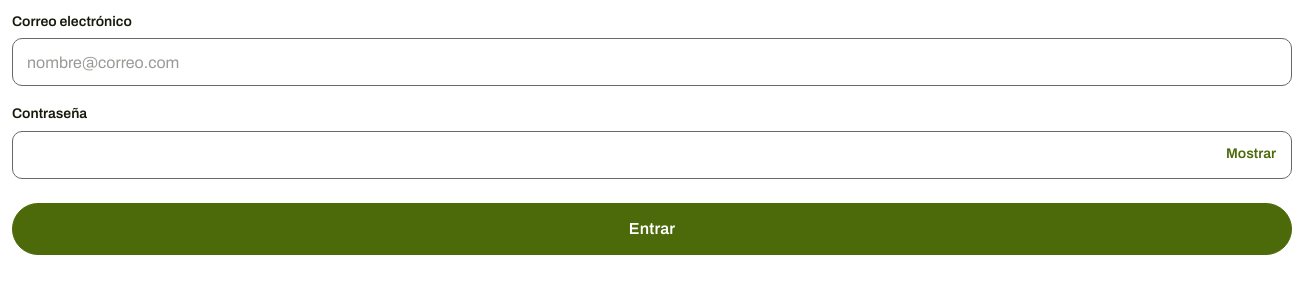
Scenario: LoginForm: fields are checked before sending › asks to check an email without the shape of an address, and sends nothing
Type "ana@correo" into the field labelled "Correo electrónico" at {"x": 652, "y": 62}, box [12,38,1292,86]
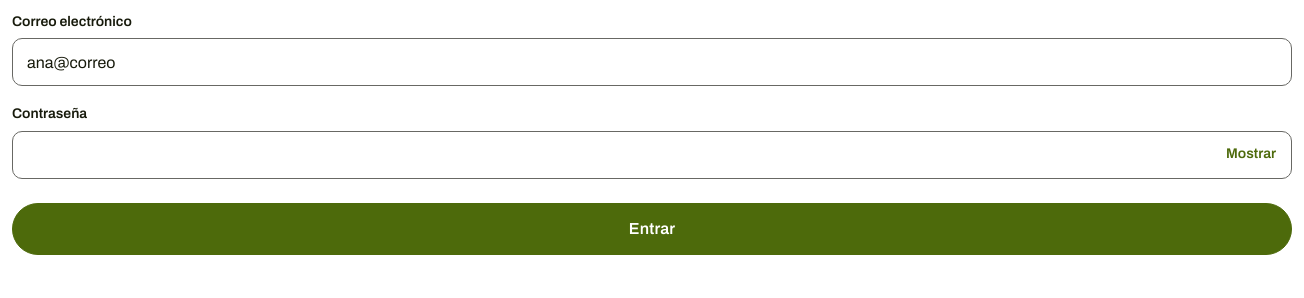
Type "a-long-enough-pass" into the password field labelled "Contraseña" at {"x": 652, "y": 155}, box [12,131,1292,179]
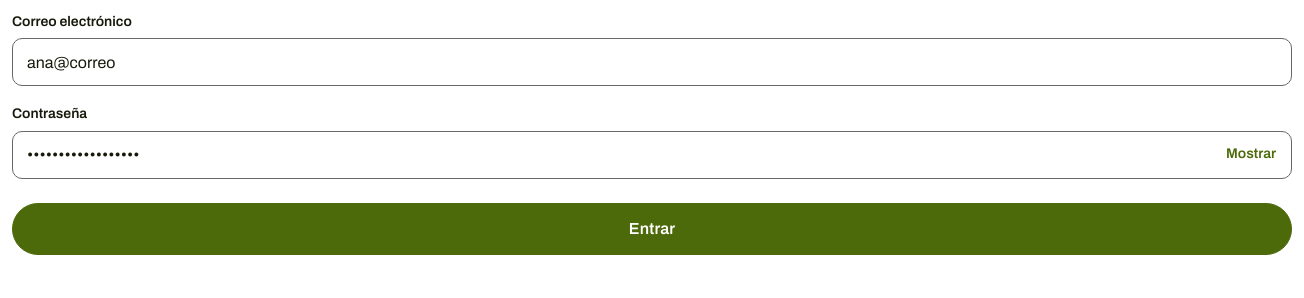
Click the button "Entrar" at {"x": 652, "y": 229}, box [12,203,1292,255]
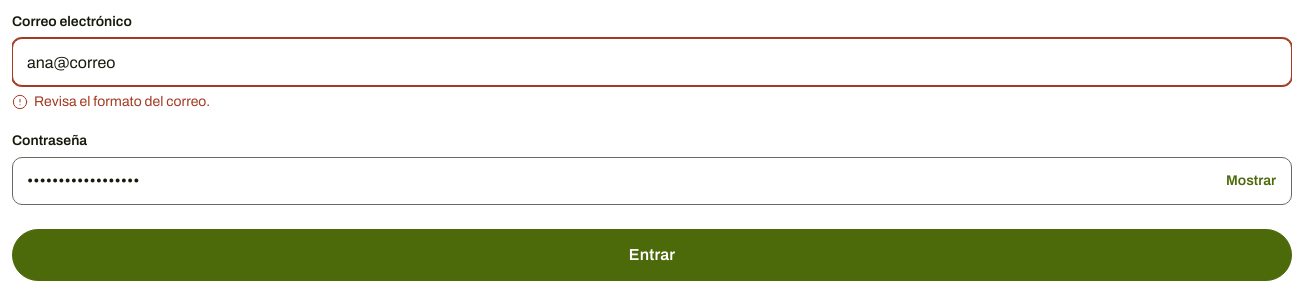
Result: the text "Revisa el formato del correo." is shown at [34,92,210,113]
